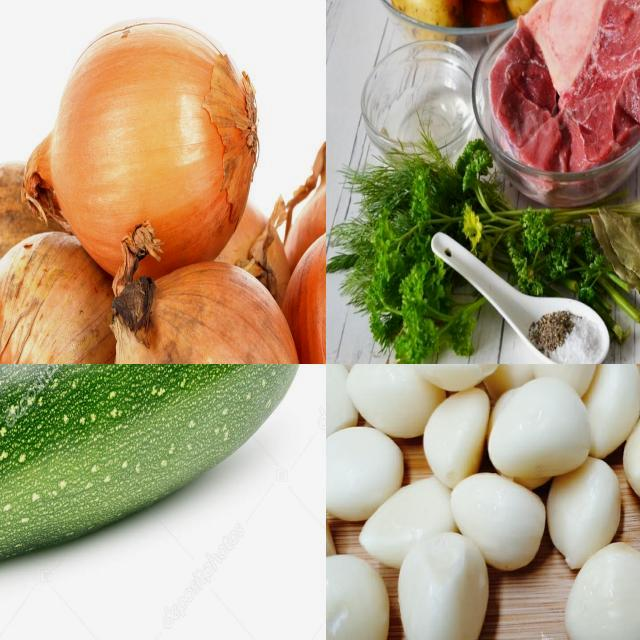garlic: (395, 537, 492, 640), (362, 477, 464, 568), (536, 453, 616, 560), (494, 382, 594, 467), (456, 477, 544, 569), (327, 424, 403, 514), (570, 543, 640, 640), (351, 365, 442, 435), (430, 381, 481, 485), (327, 552, 386, 640), (586, 365, 633, 460), (327, 365, 360, 457), (540, 365, 598, 403), (416, 365, 499, 390), (488, 365, 547, 389)
onion: (50, 19, 258, 286), (106, 246, 301, 365), (1, 231, 119, 365), (1, 156, 65, 355)
potato: (393, 1, 454, 22)
zucchini: (1, 365, 327, 634)
